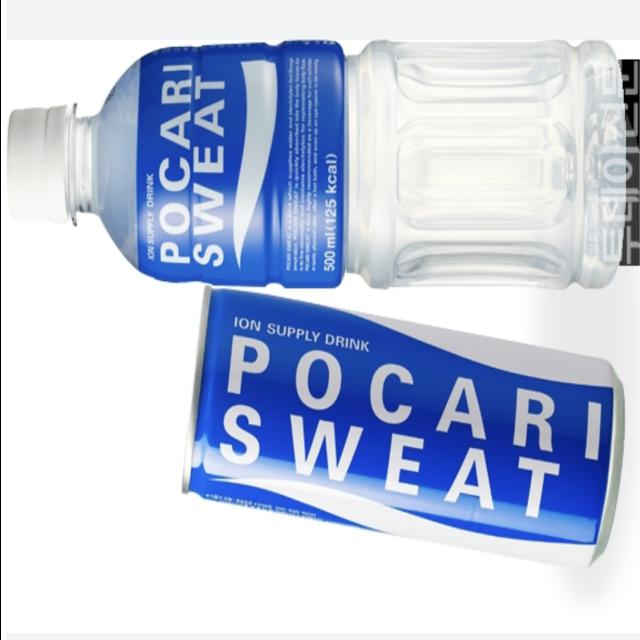can: (149, 282, 623, 576)
plastic bottles: (0, 33, 631, 291)
